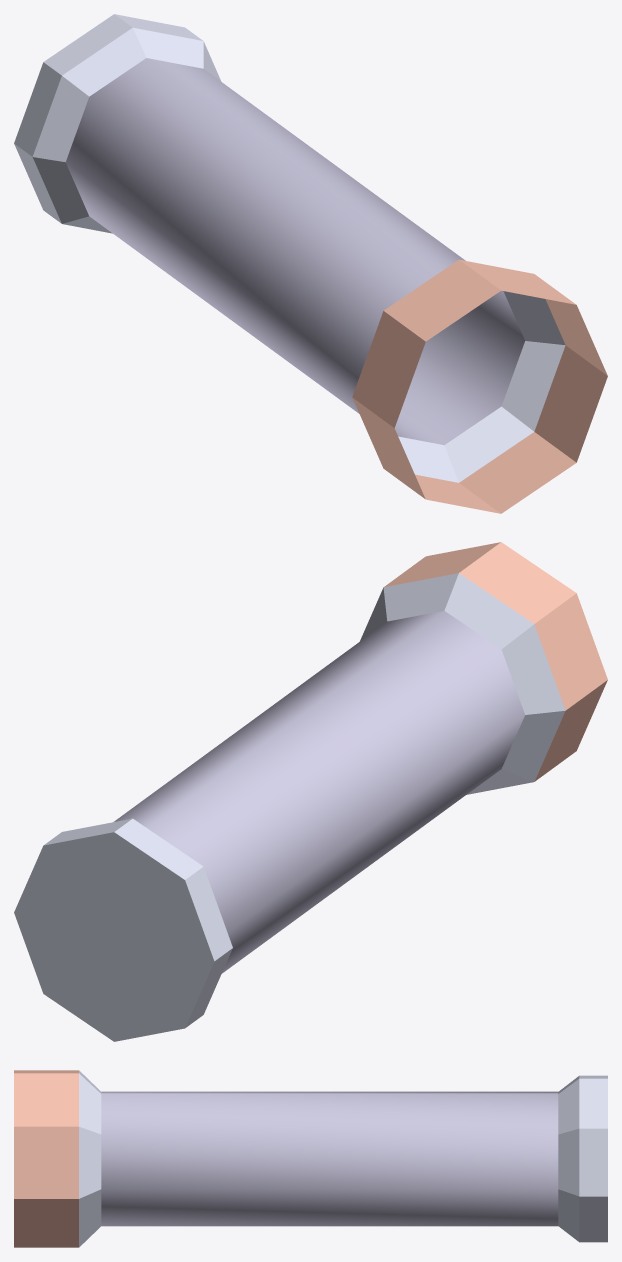
3 renders of one model, top to bottom at view 1: azimuth 30°, elevation 25°; view 2: azimuth 150°, elevation 25°; view 3: azimuth 270°, elevation 25°, orthographic. The views are drawn at different scales.
Visible parts, largest first — view 1: Object37; view 2: Object37; view 3: Object37.
Part boxes in pixels (x1,y1,x2,y2): Object37: [14, 14, 607, 513]; Object37: [14, 542, 607, 1041]; Object37: [14, 1070, 607, 1247].
Bounding box in the file's own units: 10003 × 10003 × 31428.
